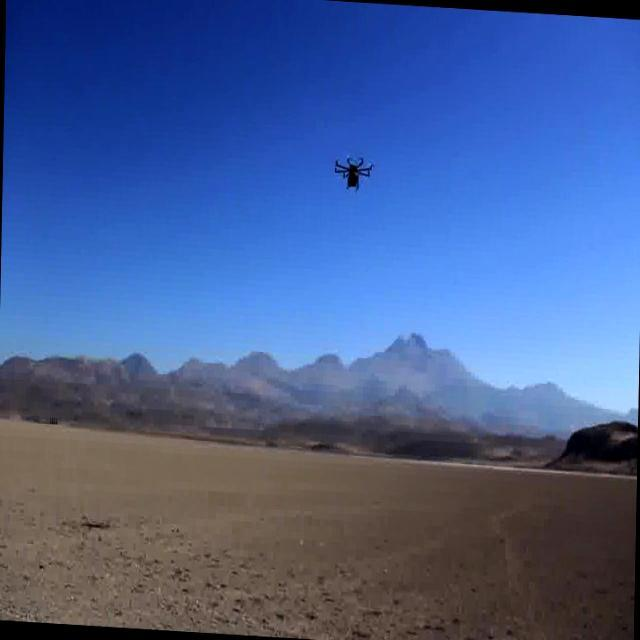drone: (332, 147, 376, 200)
